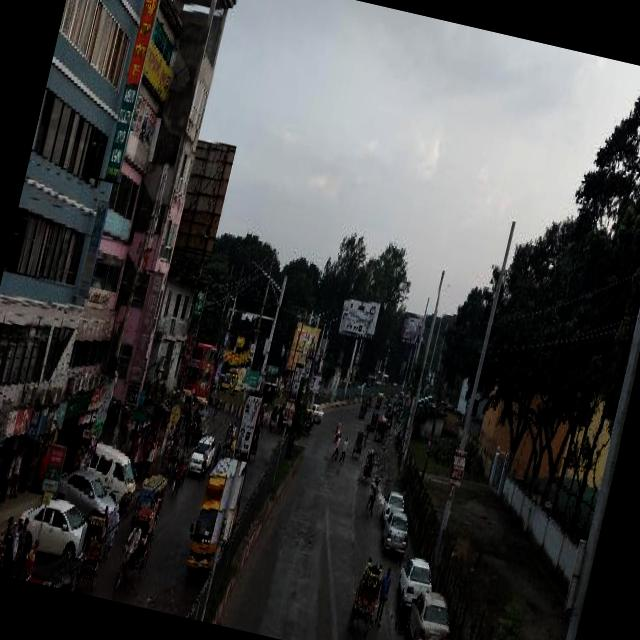bus: (184, 335, 221, 394)
car: (14, 488, 91, 558), (54, 461, 124, 514), (402, 583, 459, 640), (395, 549, 439, 608), (381, 506, 414, 551), (189, 428, 219, 471), (381, 488, 408, 526), (312, 402, 326, 418)
motorcycle: (115, 504, 158, 592), (76, 506, 112, 584), (130, 470, 170, 535), (348, 560, 384, 632), (222, 417, 239, 454), (194, 408, 212, 438), (269, 398, 288, 426), (362, 446, 376, 482), (250, 423, 263, 456), (353, 426, 367, 454), (170, 448, 184, 474), (303, 406, 317, 429), (376, 416, 388, 437), (371, 408, 382, 428), (386, 412, 395, 432), (359, 395, 369, 413), (377, 388, 385, 404), (178, 424, 185, 440), (368, 390, 374, 406), (336, 427, 342, 438)
truck: (183, 449, 250, 574), (74, 434, 144, 503), (222, 359, 250, 392)
